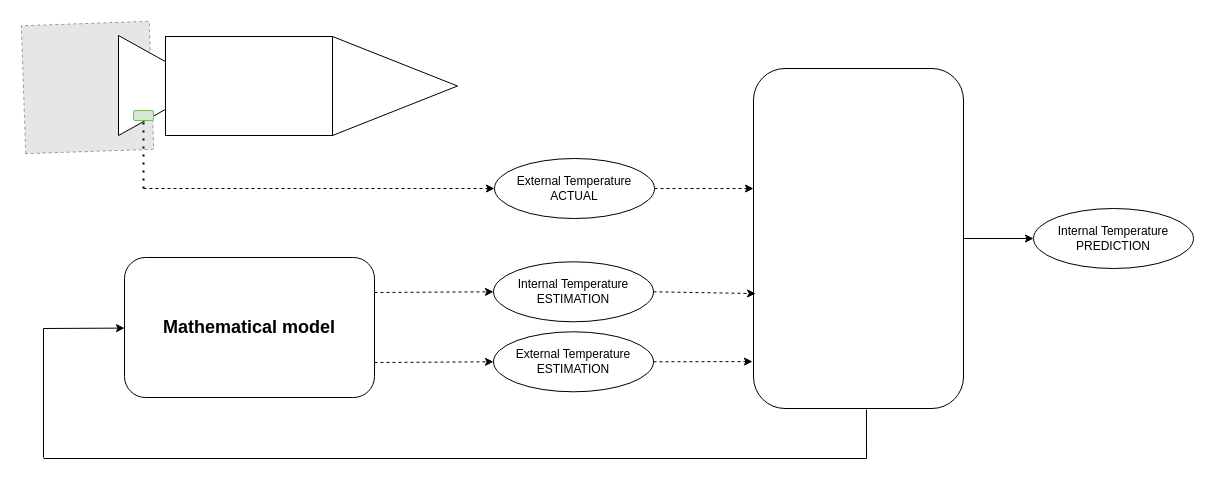
Some shapes in this 1211 by 478 pixel diagram are drawn without their labels. Grey dashed boxes stand in for pictures. The centre of each missing label's shape, as x and y in pixels:
Kalman Filter: pixel 858 238
Rocket: pixel 248 86
